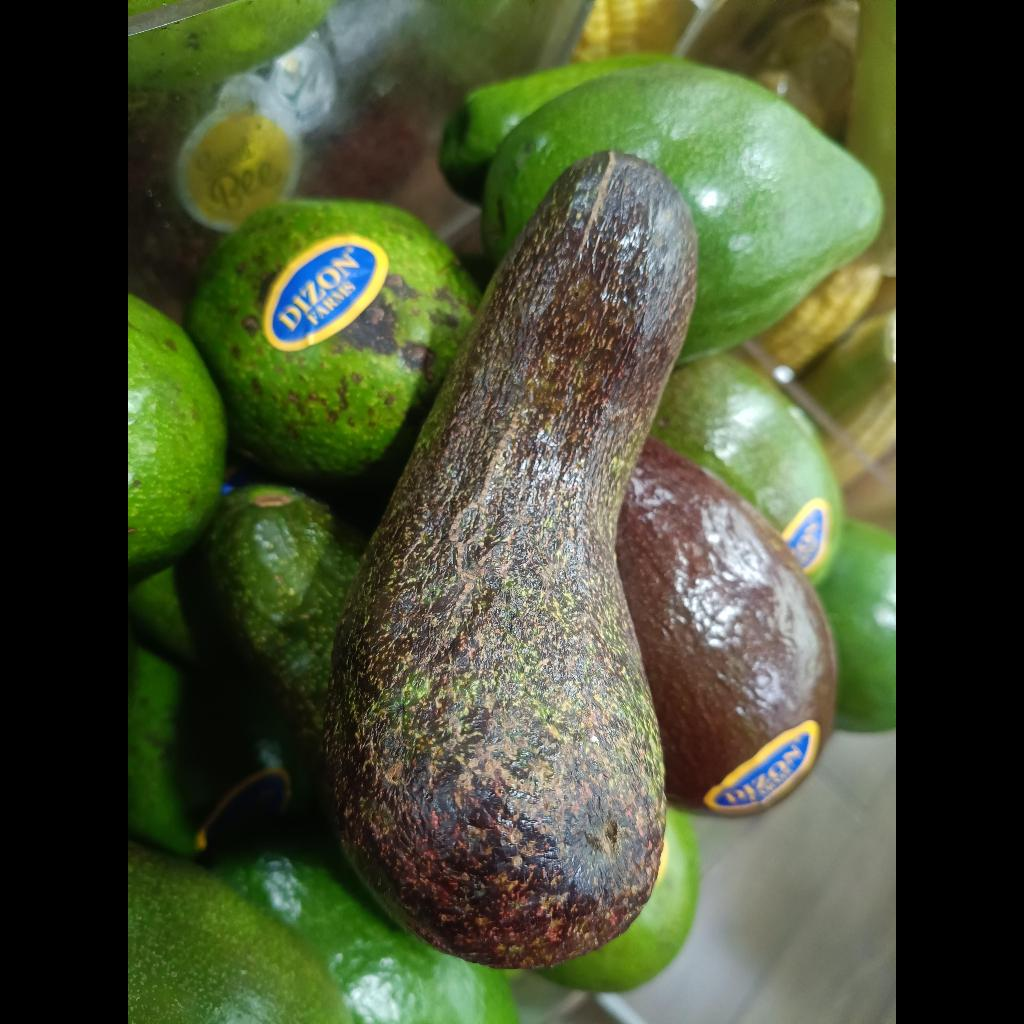anthracnose: (325, 151, 696, 968)
